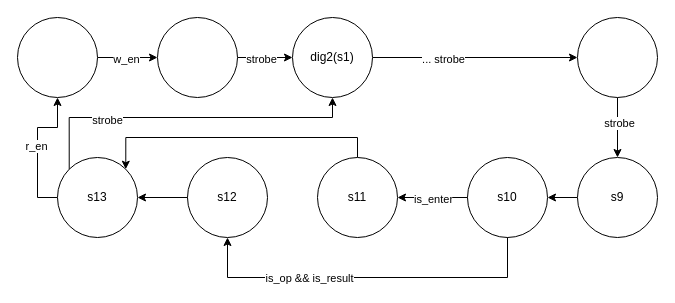
Image size: 675x303. Some labels were removed from this diagram. The centre of each missing label's shape, as x and y in pixels:
"dig1(s0)" belongs at point (197, 57).
"LSB(s8)" belongs at point (617, 57).
"write" belongs at point (57, 57).
